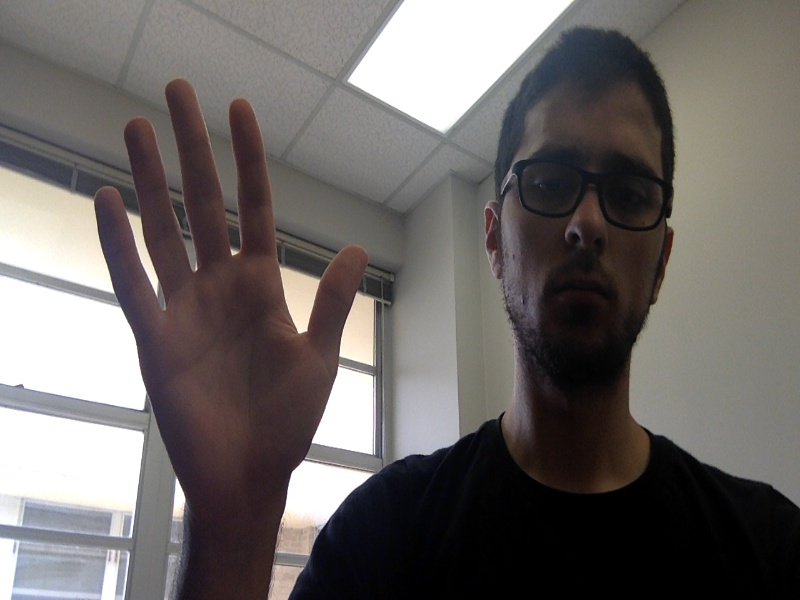5-hand: (95, 81, 362, 486)
